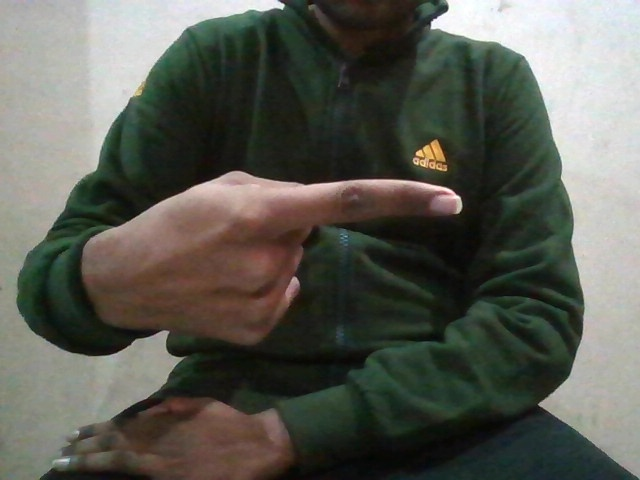G: (81, 161, 491, 350)
